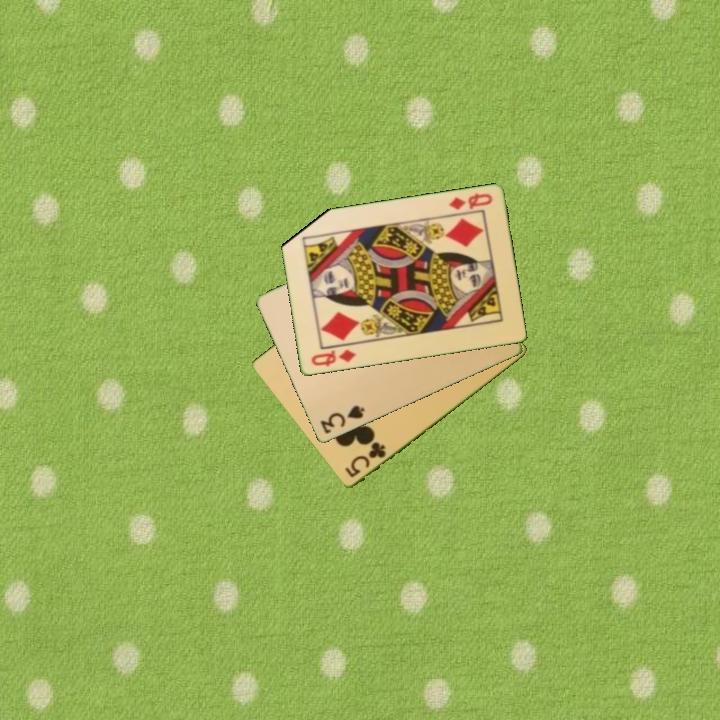3s: (317, 402, 368, 437)
5c: (341, 438, 389, 481)
Qd: (307, 346, 358, 370), (445, 190, 495, 213)
